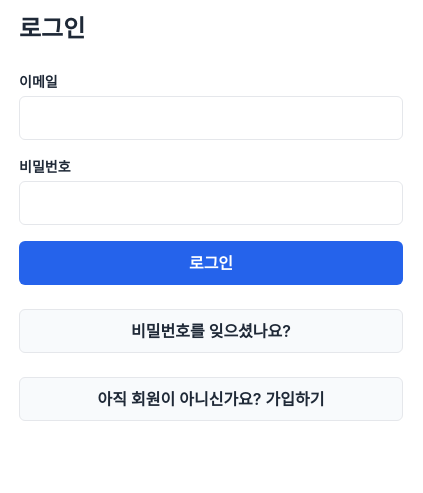
Test: LoginPage › should show the server message without telling which field was wrong when the credentials are rejected
Type "worker@example.com" into the field labelled "이메일" at (211, 118), box [19,96,403,140]
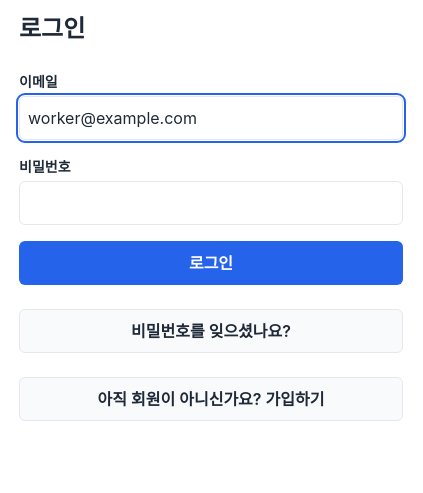
Type "wrong-password" into the password field labelled "비밀번호" at (211, 203), box [19,181,403,225]
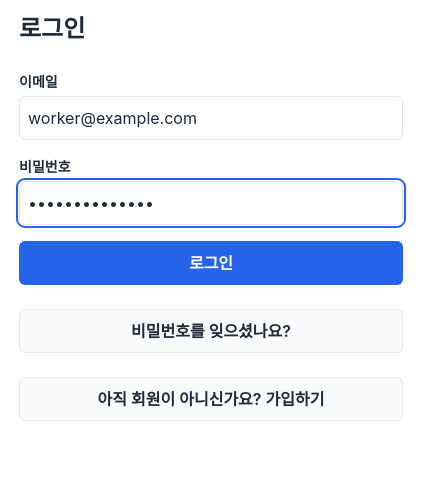
Click the button "로그인" at (211, 263), box [19,241,403,285]
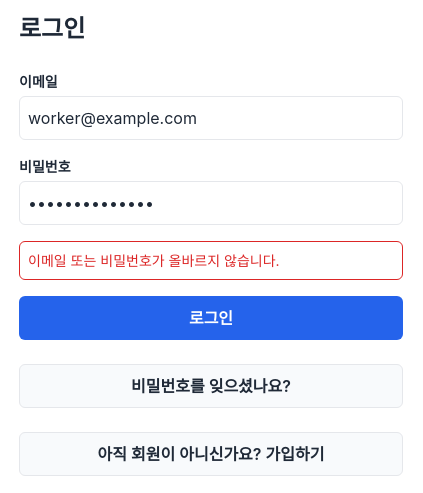
Expected: the message reads "이메일 또는 비밀번호가 올바르지 않습니다.", [28,252,280,269]
